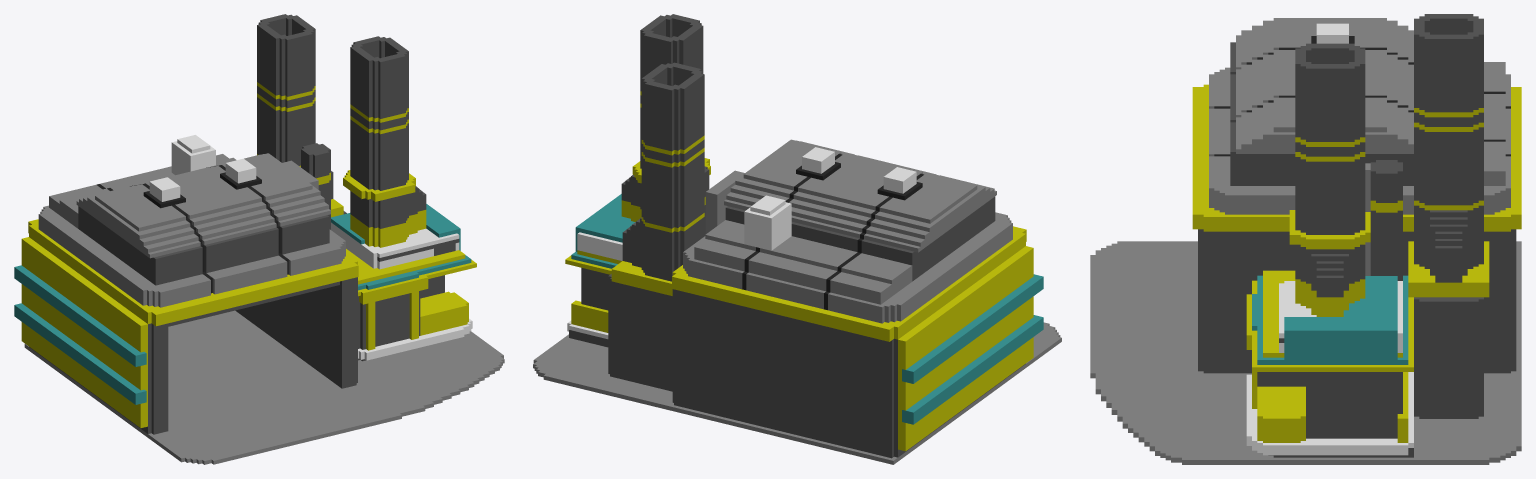
The model's file is TankFactoryBody.obj.
3 views of the same model, side by side, from view 1: azimuth 30°, elevation 25°; view 2: azimuth 150°, elevation 25°; view 3: azimuth 270°, elevation 25° (orthographic). The views are drawn at different scales.
Size of the model in its own units: 10 by 7.5 by 8.
Materials: 1 (1 with a texture image).
